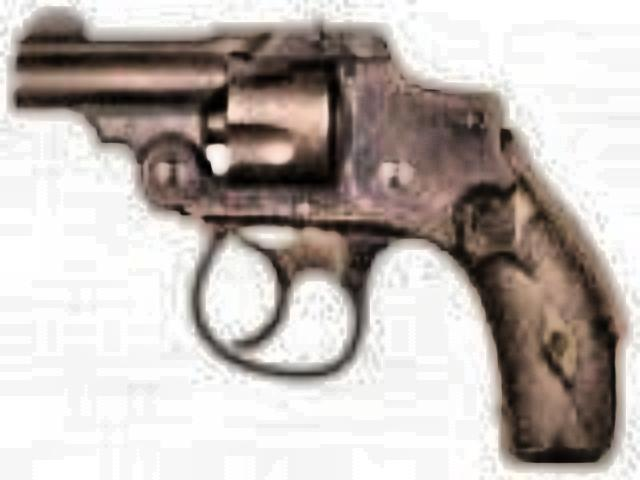pistol: (4, 4, 612, 472)
